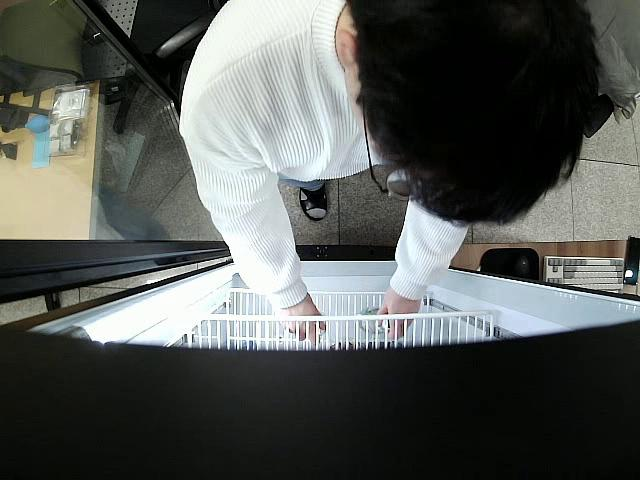00_hand: (273, 292, 325, 346), (376, 287, 420, 339)
